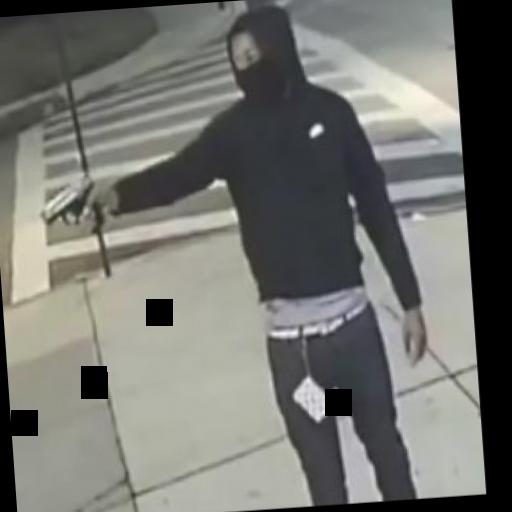Handgun: (36, 174, 108, 232)
